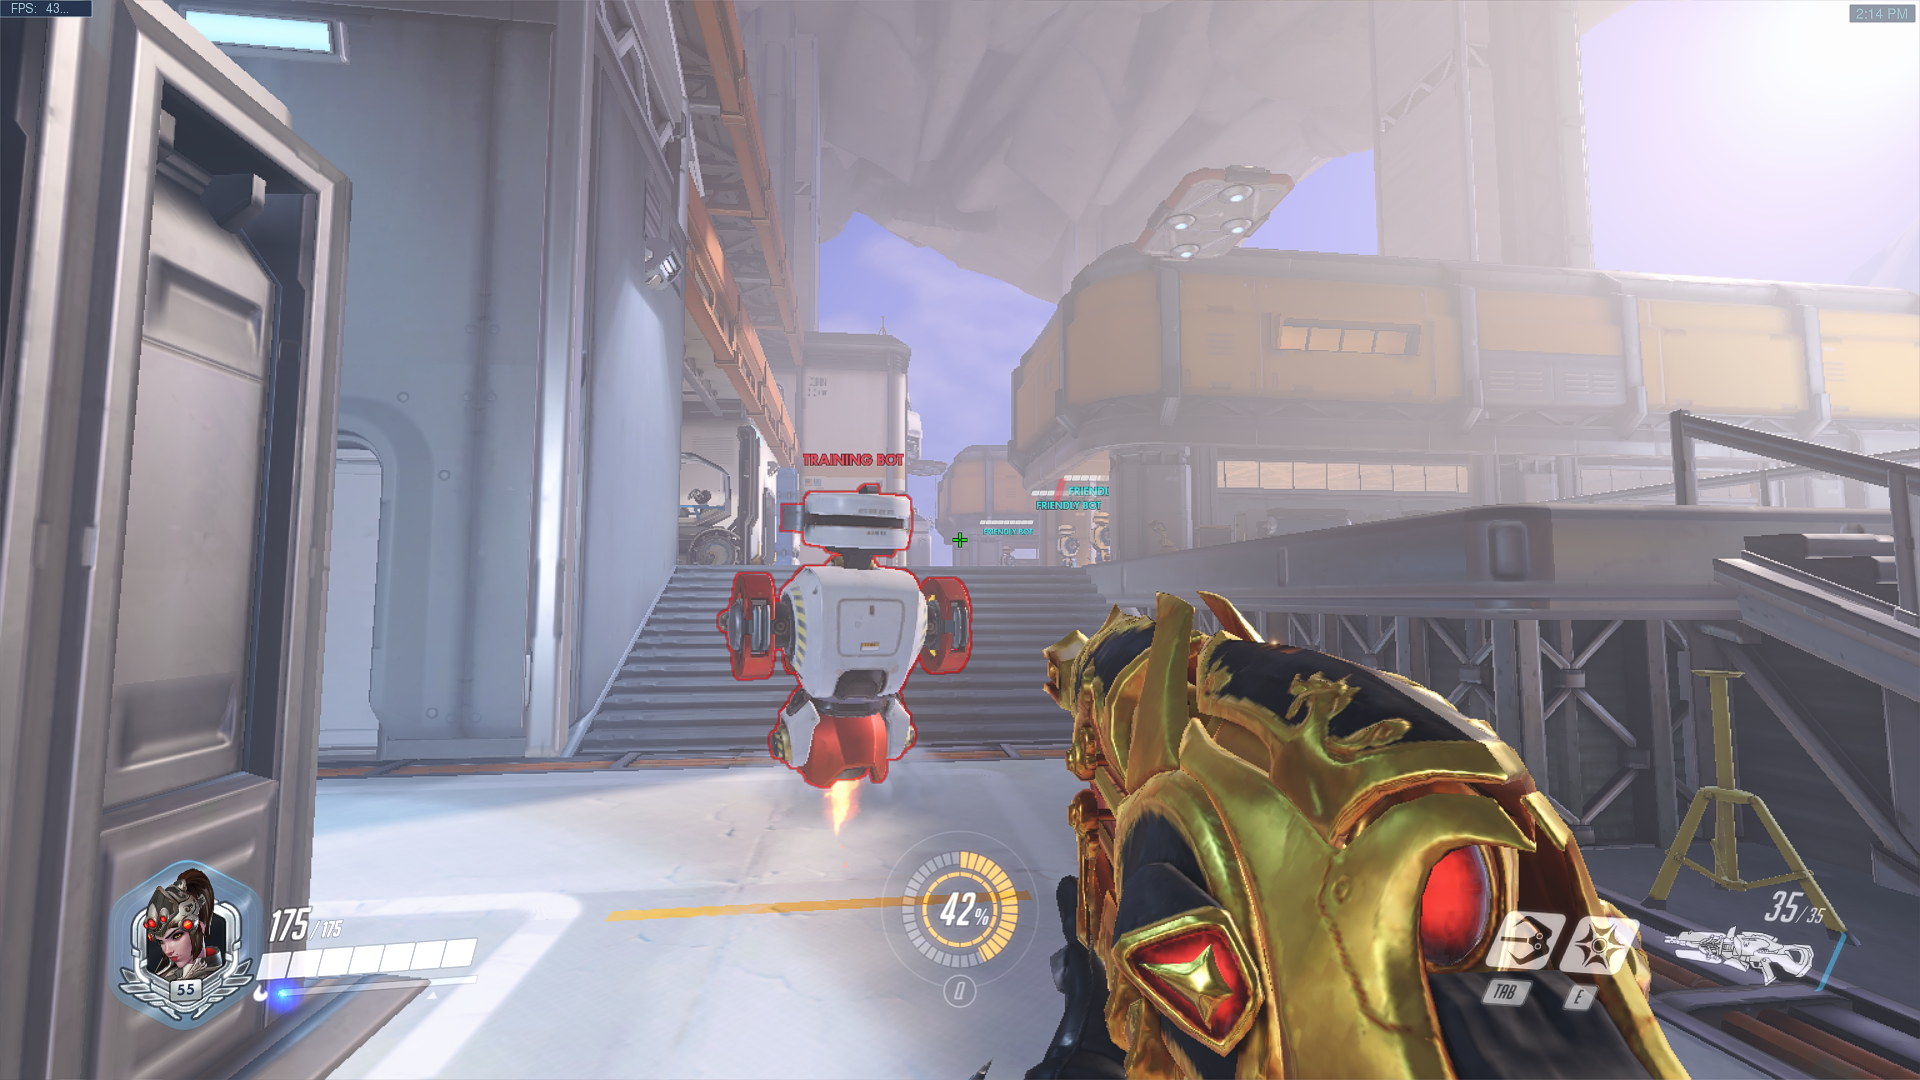head: (778, 486, 923, 564)
